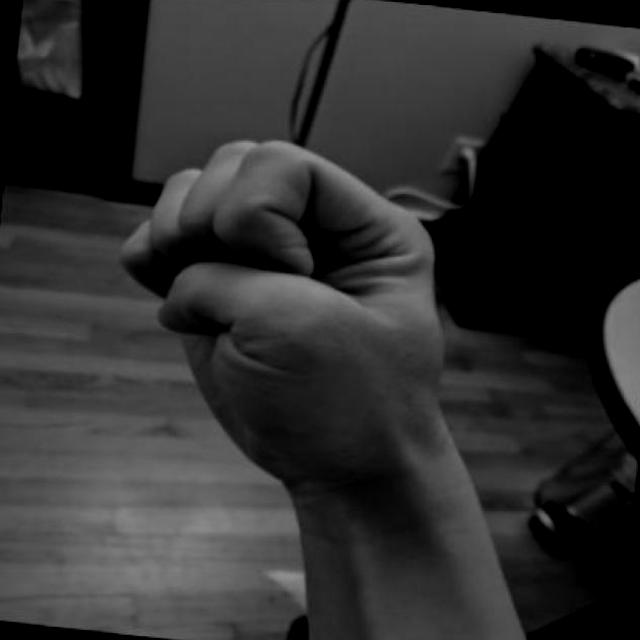E: (101, 109, 475, 518)
